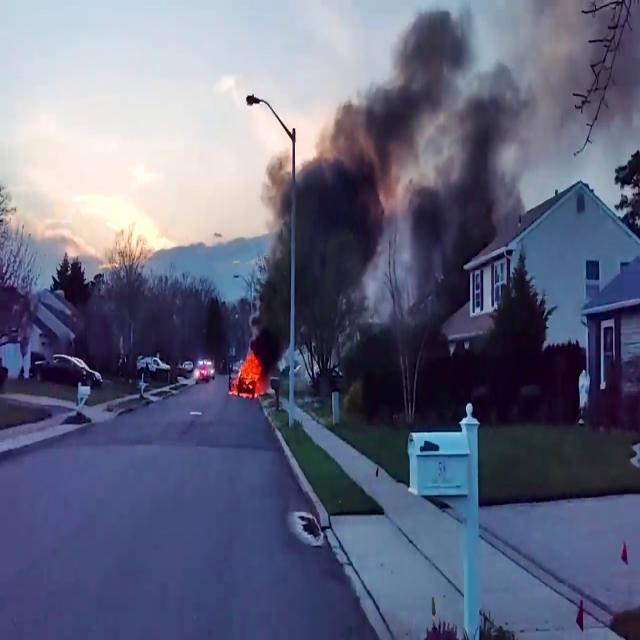Fire: (228, 348, 268, 401)
Smoke: (258, 6, 528, 339)
